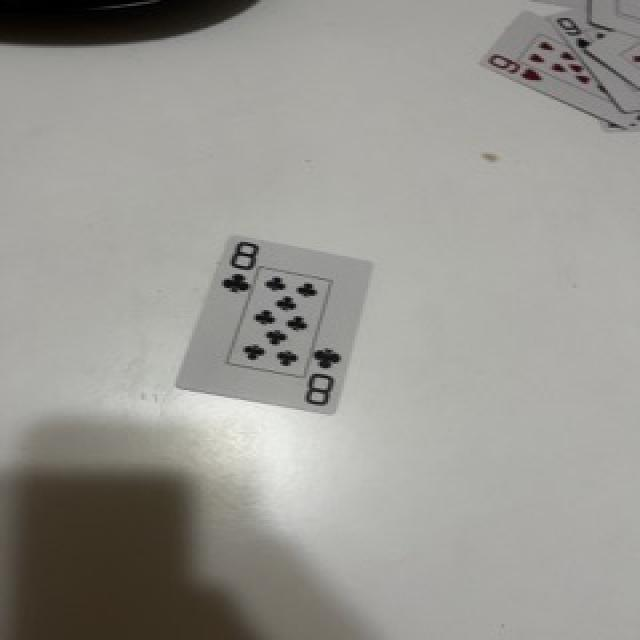8 of clubs: (177, 236, 372, 413)
9 of hearts: (482, 11, 638, 129)
